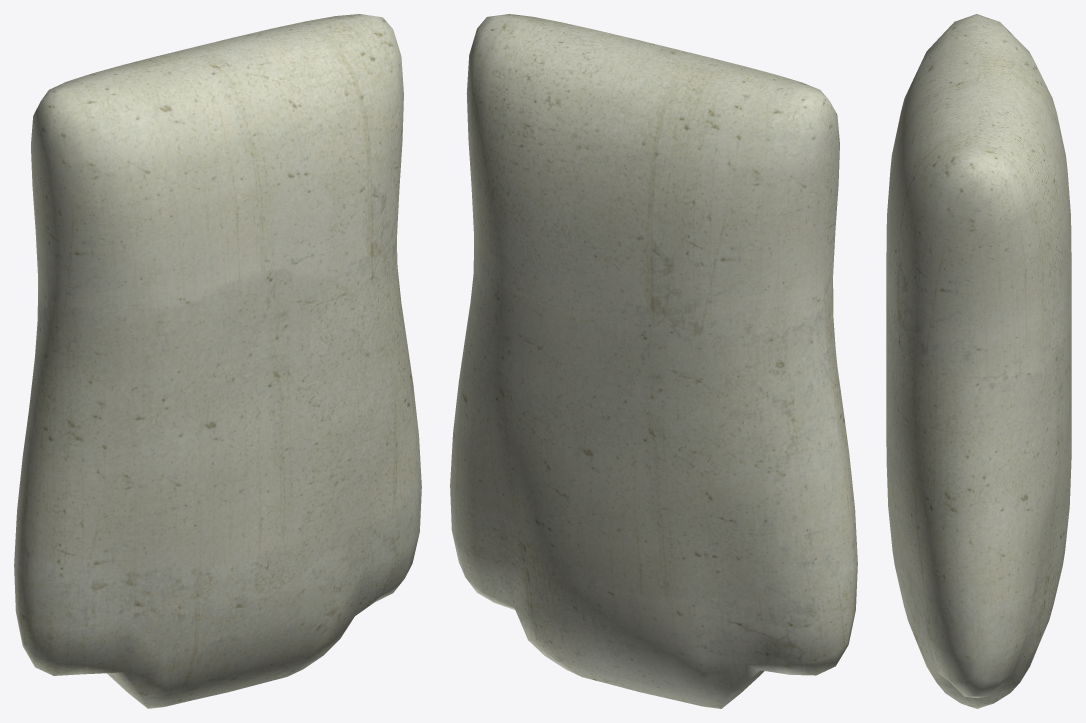
Rendered from diente.fbx.
3 renders of one model, left to right at view 1: azimuth 30°, elevation 25°; view 2: azimuth 150°, elevation 25°; view 3: azimuth 270°, elevation 25°, orthographic. The views are drawn at different scales.
Visible parts, largest first — view 1: Diente; view 2: Diente; view 3: Diente.
Boxes of the visible parts, left/top/right/bottom form: Diente: left=14, top=14, right=421, bottom=708; Diente: left=450, top=14, right=857, bottom=708; Diente: left=886, top=14, right=1071, bottom=708.
Size of the model in its own units: 179 by 276 by 77.91.
Materials: 1 (1 with a texture image).
